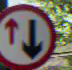Two way: (0, 5, 60, 69)
